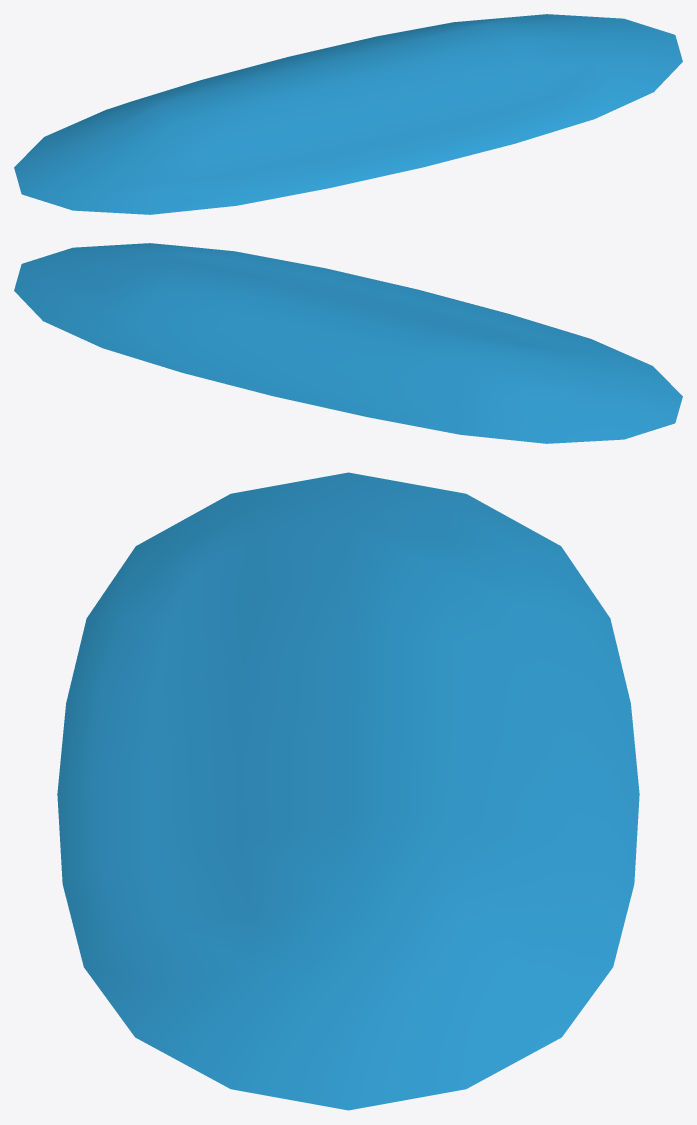
File: Rock_Mound_01.fbx
The picture shows the model from 3 angles, top to bottom: view 1: azimuth 30°, elevation 25°; view 2: azimuth 150°, elevation 25°; view 3: azimuth 270°, elevation 25°; orthographic projection. The views are drawn at different scales.
Visible parts, largest first — view 1: Rock_Mound_01; view 2: Rock_Mound_01; view 3: Rock_Mound_01.
Boxes of the visible parts, left/top/right/bottom form: Rock_Mound_01: left=14, top=14, right=682, bottom=214; Rock_Mound_01: left=14, top=243, right=682, bottom=443; Rock_Mound_01: left=57, top=472, right=639, bottom=1110.
Size of the model in its own units: 4151 by 193 by 1601.
